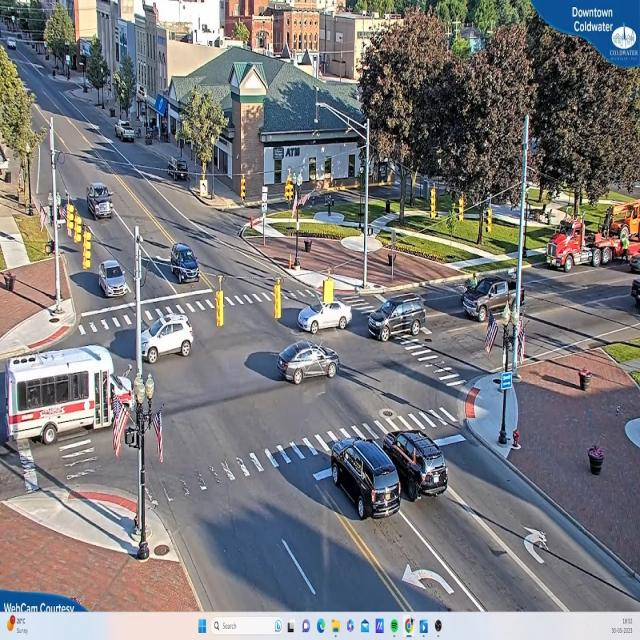bus: (3, 345, 134, 446)
car: (328, 439, 402, 521), (386, 430, 448, 500), (140, 314, 196, 364), (366, 298, 428, 342), (278, 343, 338, 385), (464, 278, 521, 322), (298, 300, 350, 333), (96, 259, 131, 298), (171, 244, 201, 282), (86, 184, 114, 220), (118, 122, 138, 145)
truck: (545, 192, 640, 274)
